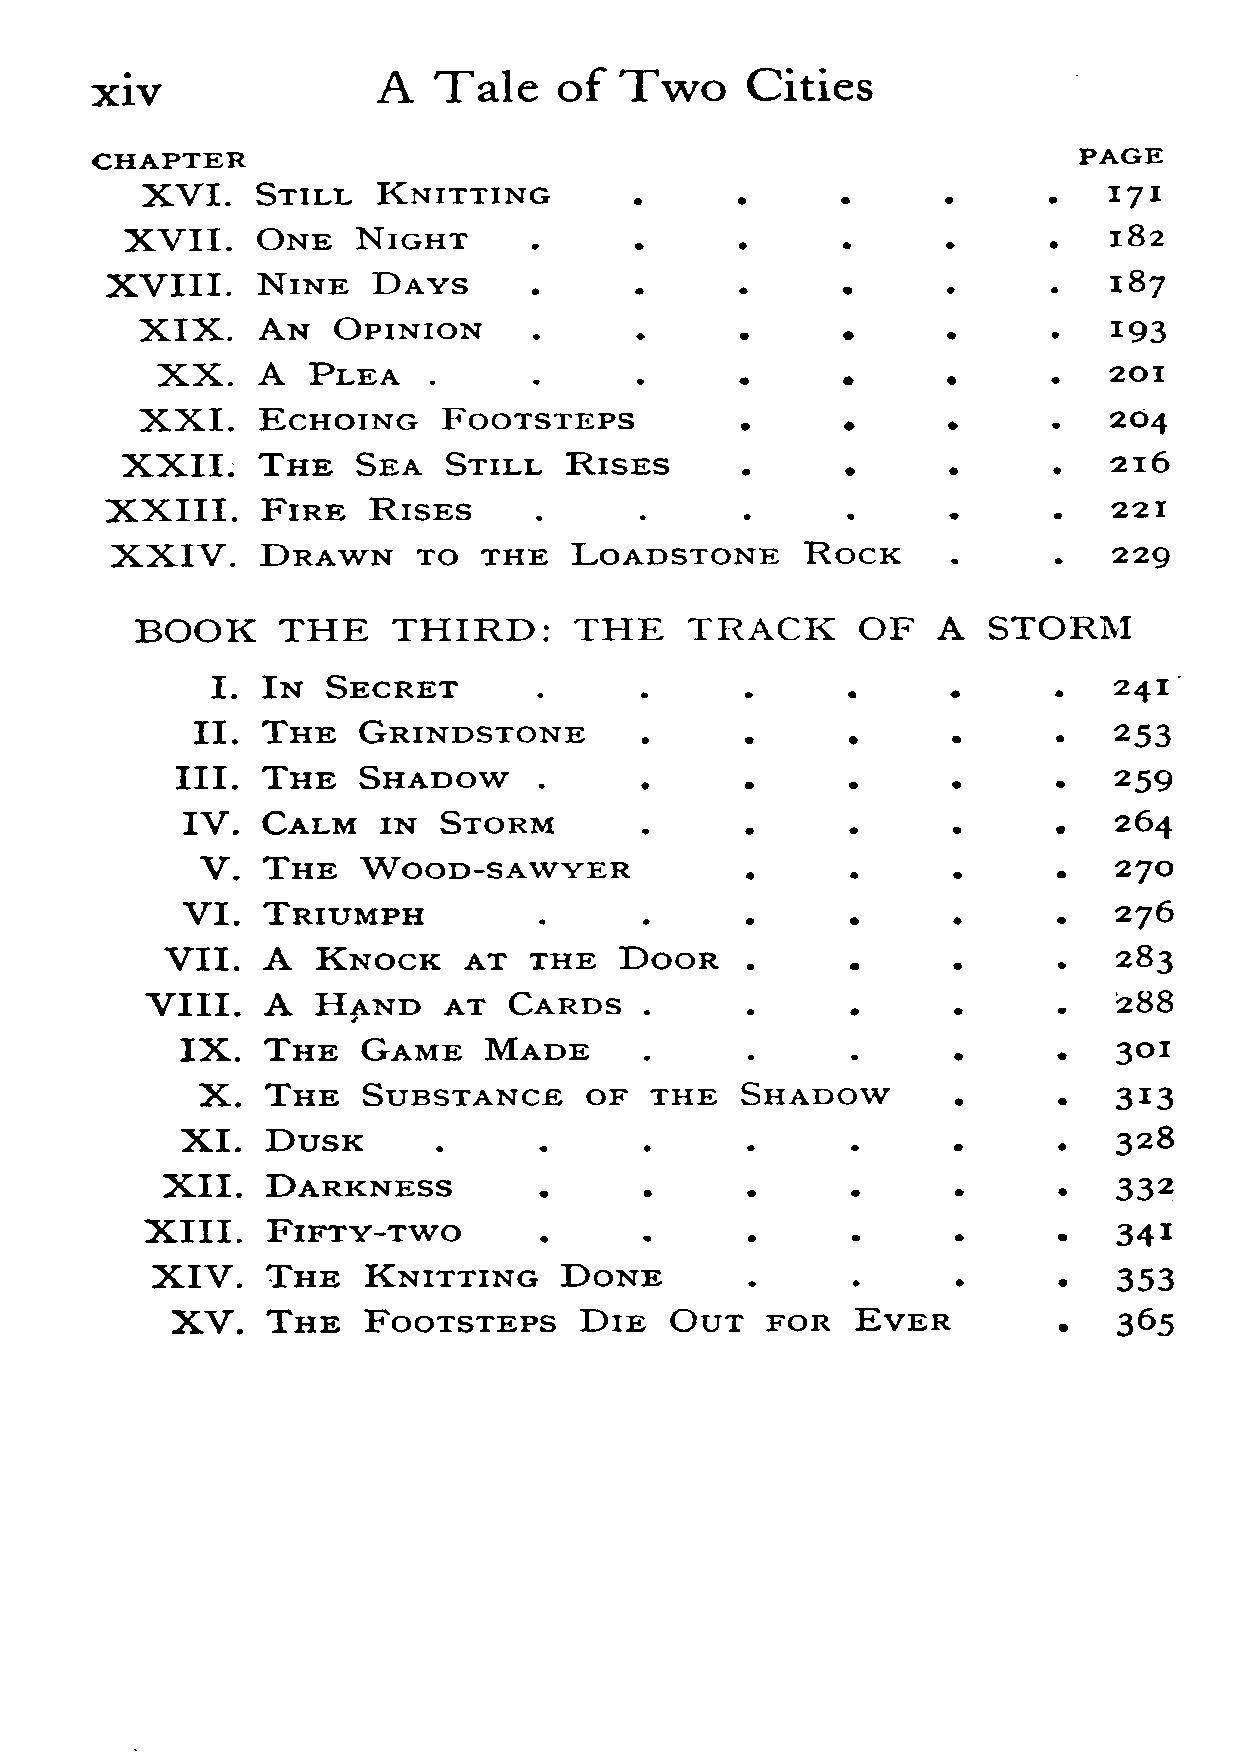TOC_chapter: (123, 607, 1141, 651), (169, 1300, 962, 1346), (107, 537, 905, 574), (141, 974, 635, 1023), (121, 442, 674, 484), (187, 1082, 898, 1113), (164, 939, 729, 976), (170, 1027, 601, 1074), (195, 848, 637, 892), (144, 1260, 666, 1296), (125, 170, 560, 209), (170, 800, 562, 841), (134, 403, 635, 433), (166, 754, 513, 798), (185, 715, 589, 752), (130, 313, 488, 352), (97, 264, 475, 301), (102, 488, 479, 525), (140, 1215, 475, 1255), (115, 221, 475, 255), (160, 1170, 462, 1206), (201, 670, 468, 705), (176, 898, 432, 931), (156, 360, 399, 393), (176, 1122, 374, 1158)
TOC_pagenumber: (1095, 395, 1176, 440), (1102, 706, 1176, 752), (1098, 306, 1172, 349), (1108, 798, 1176, 843), (1100, 1125, 1182, 1161), (1108, 1255, 1180, 1296), (1108, 1303, 1189, 1339), (1100, 169, 1166, 213), (1102, 217, 1176, 255), (1114, 888, 1178, 931), (1108, 660, 1170, 705), (1098, 354, 1176, 388), (1104, 754, 1173, 792), (1114, 1031, 1180, 1070), (1114, 935, 1173, 978), (1114, 1166, 1180, 1204), (1107, 985, 1180, 1019), (1102, 264, 1170, 299), (1111, 848, 1177, 884), (1104, 488, 1172, 523), (1107, 448, 1177, 482), (1114, 1215, 1182, 1248), (1114, 1078, 1180, 1111), (1108, 539, 1177, 566)
chapter: (366, 59, 884, 115)
